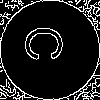C: (25, 25, 72, 62)
